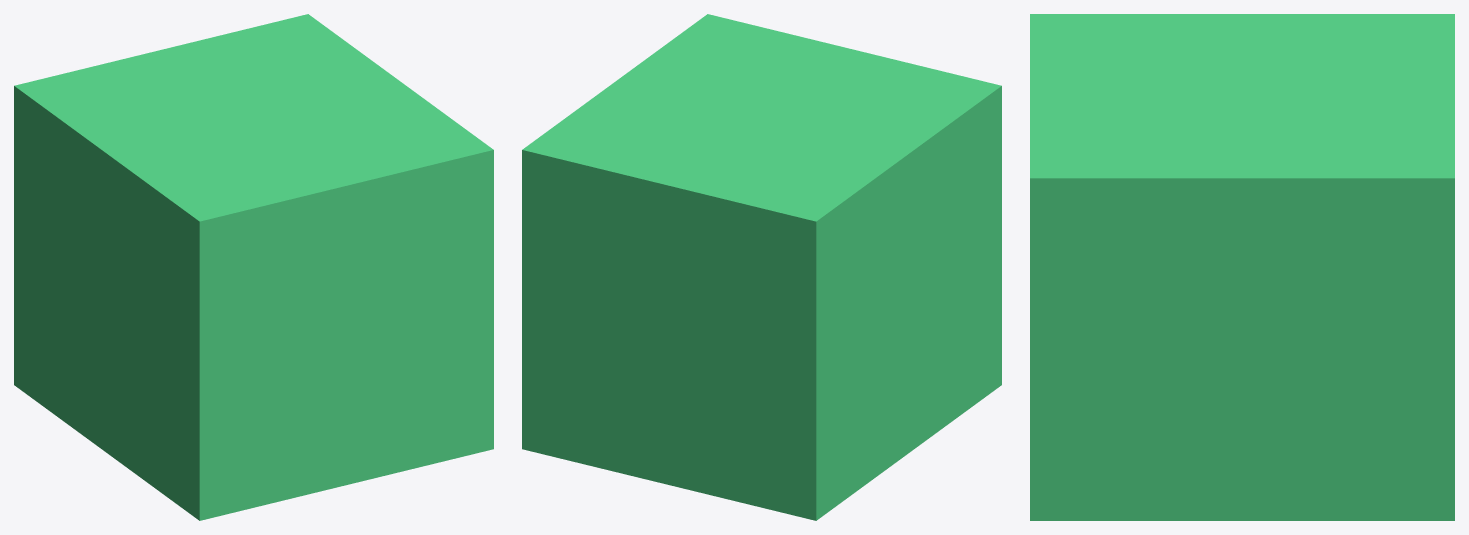
The model's file is trash_bag.DAE.
3 renders of one model, left to right at view 1: azimuth 30°, elevation 25°; view 2: azimuth 150°, elevation 25°; view 3: azimuth 270°, elevation 25°, orthographic. The views are drawn at different scales.
Parts seen in each view (by area): view 1: bounds; view 2: bounds; view 3: bounds.
Boxes of the visible parts, bbox=[...] form: bounds: bbox=[14, 14, 493, 520]; bounds: bbox=[522, 14, 1001, 520]; bounds: bbox=[1030, 14, 1454, 520].
Size of the model in its own units: 32.68 by 35.71 by 31.78.
